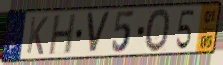5: (111, 8, 137, 55), (175, 8, 196, 50)
H: (47, 12, 79, 57)
K: (25, 15, 50, 57)
O: (143, 7, 172, 54)
V: (85, 12, 112, 56)
